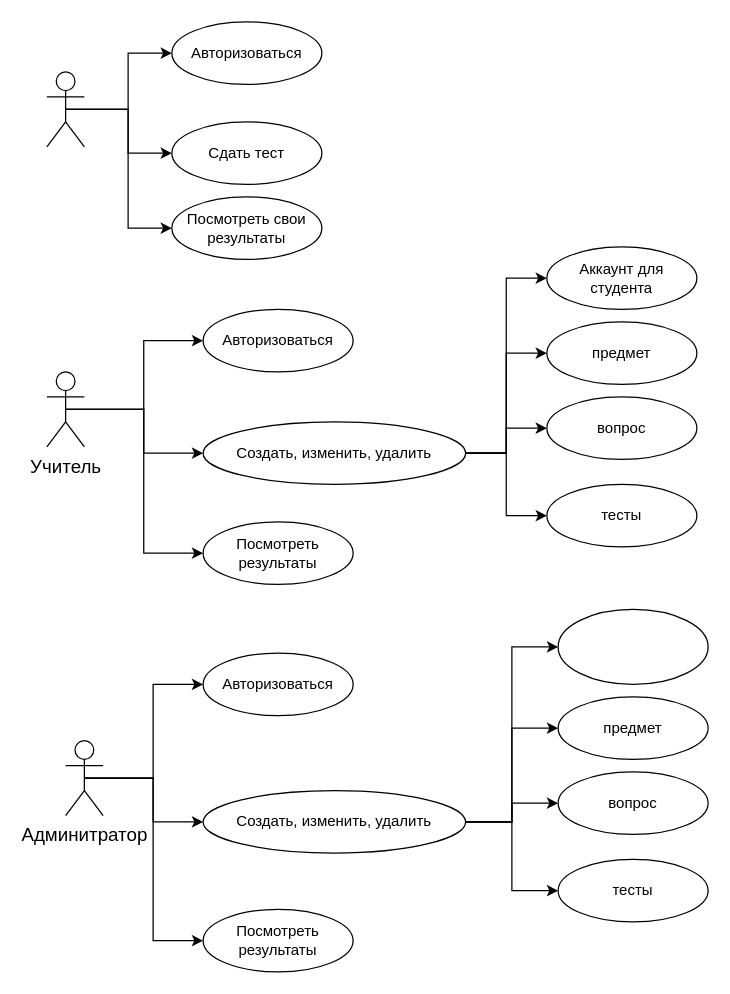
The diagram is 730 pixels wide and 994 high, and some of its shapes have lost their labels. The shapes that lost their labels are listed below. From the top down, each one's centre as x and y in pixels, then its label:
At [65,109]: "Студент".
At [632,646]: "Аккаунт для студента, учителя и админитратора".
